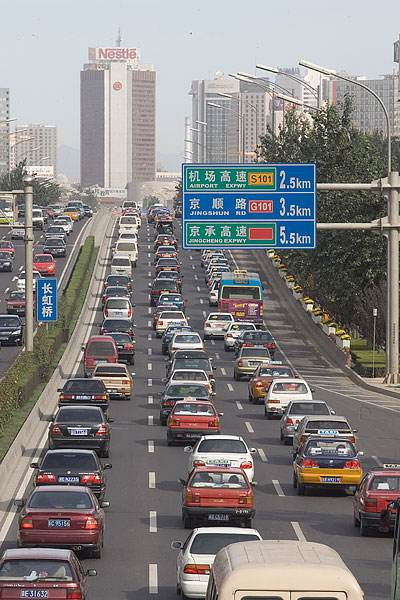bus: (219, 269, 262, 312)
car: (14, 484, 109, 554), (1, 546, 97, 600), (233, 345, 272, 381)
microbus: (207, 541, 367, 600), (80, 334, 119, 378), (146, 277, 181, 306)
suv: (167, 348, 215, 387), (111, 241, 139, 266)
truck: (104, 295, 136, 324)
